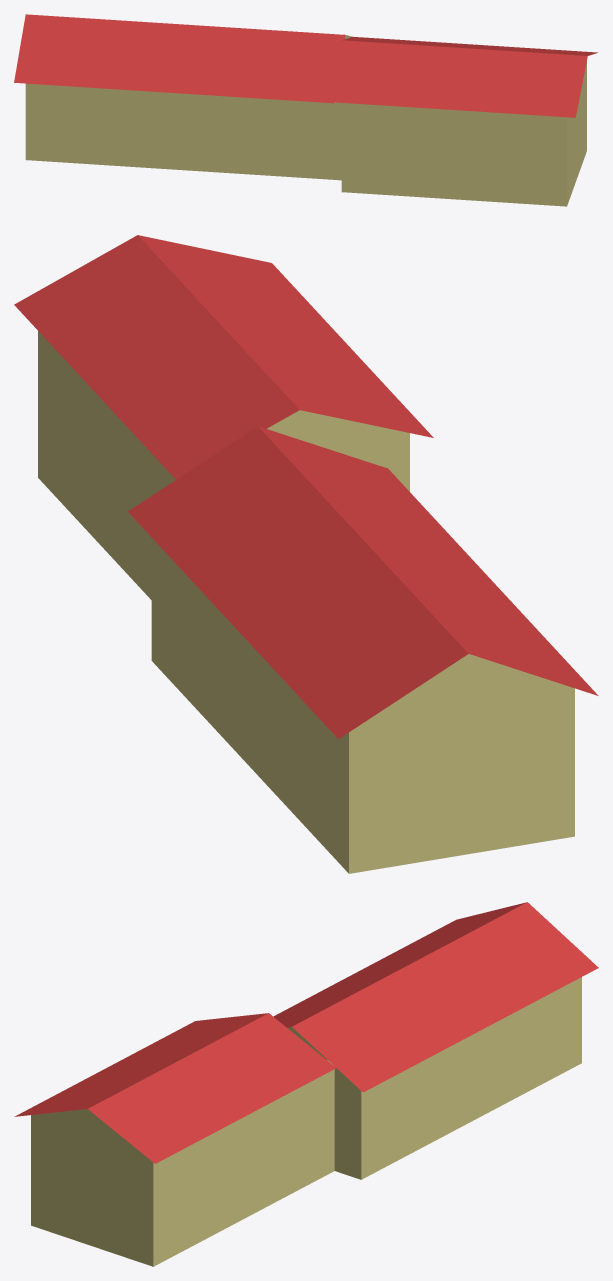
3 views of the same model, one above another, from view 1: azimuth 30°, elevation 25°; view 2: azimuth 150°, elevation 25°; view 3: azimuth 270°, elevation 25° (orthographic). The views are drawn at different scales.
Parts seen in each view (by area): view 1: group_5, group_9, group_3, group_7, group_8; view 2: group_3, group_5, group_7, group_9, group_4, group_8; view 3: group_9, group_3, group_5, group_7, group_4, group_8.
Boxes of the visible parts, x1=… form: group_5: x1=25, y1=35, x2=351, y2=179; group_9: x1=335, y1=61, x2=586, y2=206; group_3: x1=14, y1=14, x2=352, y2=103; group_7: x1=330, y1=37, x2=597, y2=117; group_8: x1=330, y1=52, x2=587, y2=116; group_3: x1=128, y1=426, x2=598, y2=738; group_5: x1=151, y1=538, x2=574, y2=873; group_7: x1=14, y1=235, x2=433, y2=479; group_9: x1=38, y1=331, x2=409, y2=599; group_4: x1=128, y1=480, x2=468, y2=735; group_8: x1=23, y1=235, x2=433, y2=437; group_9: x1=31, y1=1073, x2=327, y2=1266; group_3: x1=273, y1=902, x2=598, y2=1091; group_5: x1=231, y1=977, x2=581, y2=1179; group_7: x1=14, y1=1013, x2=336, y2=1163; group_4: x1=338, y1=902, x2=589, y2=1092; group_8: x1=27, y1=1021, x2=201, y2=1156.
Size of the model in its own units: 37.99 by 36.15 by 9.7.
